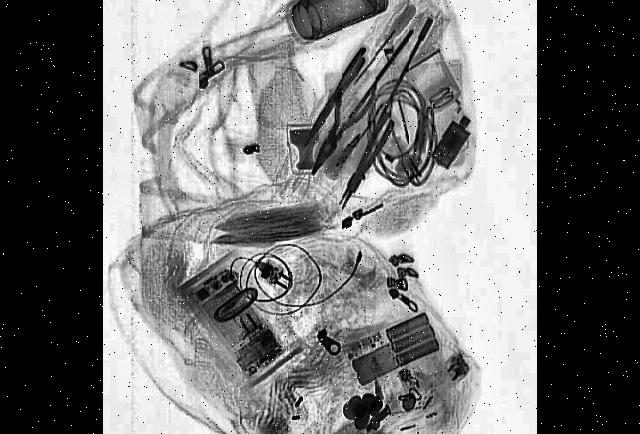Pliers: (299, 58, 379, 192), (300, 42, 370, 152), (336, 106, 396, 216)
